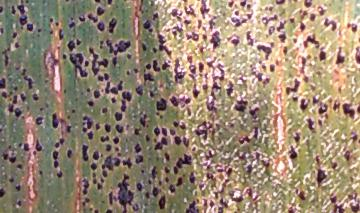tarspot: (206, 55, 224, 113), (115, 172, 139, 213), (105, 36, 133, 57), (68, 52, 89, 79), (88, 46, 108, 74), (156, 33, 173, 59), (194, 121, 213, 142), (213, 177, 230, 199), (172, 56, 186, 82), (186, 73, 200, 99), (168, 93, 192, 108), (255, 42, 274, 60), (284, 78, 302, 96), (302, 31, 320, 49), (248, 63, 263, 84), (299, 54, 309, 85), (229, 14, 247, 30), (209, 29, 222, 51), (321, 16, 338, 32), (152, 135, 169, 151), (176, 153, 193, 168), (199, 1, 211, 22), (334, 44, 345, 66), (315, 167, 327, 187), (1, 45, 11, 69), (169, 7, 184, 23), (341, 102, 355, 119), (99, 153, 113, 170), (233, 97, 248, 112), (294, 186, 308, 202), (184, 199, 200, 213), (183, 3, 199, 17), (171, 23, 184, 40), (226, 32, 240, 47), (245, 29, 255, 50), (287, 142, 298, 161), (107, 16, 118, 35), (206, 13, 217, 32), (155, 96, 168, 112), (82, 113, 94, 130), (184, 30, 201, 42), (261, 14, 279, 25), (80, 143, 90, 162), (224, 79, 234, 98), (121, 156, 135, 169), (305, 116, 315, 134), (248, 106, 260, 121), (299, 96, 310, 112), (22, 74, 33, 90), (261, 74, 272, 90), (347, 200, 360, 213), (51, 110, 59, 131), (275, 31, 287, 45), (276, 18, 288, 32), (234, 149, 248, 161), (352, 45, 360, 65), (331, 202, 345, 213), (332, 97, 341, 114), (151, 58, 161, 73), (134, 83, 144, 98), (237, 135, 252, 145), (345, 21, 357, 33), (158, 194, 166, 212), (34, 137, 43, 153), (139, 112, 147, 130), (204, 149, 216, 161), (112, 111, 125, 122), (120, 91, 133, 102), (346, 192, 360, 202), (82, 177, 89, 197), (111, 155, 121, 169), (317, 48, 326, 63), (316, 5, 327, 17), (142, 71, 154, 82), (244, 9, 255, 21), (17, 4, 27, 17), (66, 39, 76, 52), (317, 103, 328, 114), (87, 12, 98, 23), (160, 61, 171, 72), (260, 157, 271, 168), (349, 129, 357, 144), (243, 186, 253, 198), (96, 21, 106, 33), (114, 123, 124, 135), (197, 60, 205, 75), (231, 195, 244, 204), (329, 157, 337, 171), (185, 105, 193, 119), (85, 130, 95, 141), (188, 63, 198, 74), (342, 149, 351, 161), (313, 155, 322, 167), (19, 92, 28, 104), (268, 62, 277, 74), (92, 88, 101, 100), (310, 94, 319, 106), (35, 114, 43, 127), (260, 61, 268, 74), (328, 194, 338, 204), (18, 16, 28, 26), (219, 197, 228, 208), (96, 6, 105, 17), (139, 41, 148, 52), (225, 166, 234, 177), (237, 74, 248, 83), (188, 170, 195, 184), (150, 165, 157, 179), (10, 4, 17, 18), (57, 27, 64, 41), (92, 149, 99, 163), (120, 98, 127, 112), (116, 78, 123, 92), (23, 141, 31, 153), (181, 136, 189, 148), (173, 135, 181, 147), (104, 79, 110, 95), (299, 21, 307, 33), (111, 55, 118, 68), (8, 155, 17, 165), (51, 150, 60, 160), (1, 76, 7, 91), (25, 23, 35, 32), (135, 154, 144, 164), (133, 143, 142, 153), (100, 134, 110, 143), (253, 125, 259, 140), (183, 17, 192, 27), (197, 181, 206, 191), (152, 126, 160, 137), (178, 120, 186, 131), (112, 135, 120, 146), (225, 1, 236, 9), (108, 190, 113, 207), (7, 103, 14, 115), (104, 122, 111, 134), (55, 170, 64, 179), (151, 11, 160, 20), (86, 98, 95, 107), (189, 145, 198, 154), (302, 1, 312, 9), (202, 197, 207, 213), (57, 136, 65, 146), (14, 108, 22, 118), (31, 92, 39, 102), (290, 95, 300, 103), (163, 165, 171, 175), (163, 151, 171, 161), (88, 162, 98, 170), (104, 143, 112, 153), (267, 25, 275, 35), (282, 45, 288, 58), (196, 18, 202, 31), (160, 126, 167, 137), (110, 85, 117, 96), (301, 8, 308, 19), (309, 12, 315, 24), (168, 184, 176, 193), (1, 186, 7, 198), (13, 183, 22, 191), (66, 148, 72, 160), (78, 15, 87, 23), (109, 96, 117, 105), (95, 74, 104, 82), (233, 7, 241, 16), (205, 172, 214, 180), (264, 5, 273, 13), (293, 132, 300, 142), (176, 176, 183, 186), (52, 160, 59, 170), (65, 124, 72, 134), (75, 37, 82, 47), (143, 19, 150, 29), (96, 182, 103, 192), (102, 71, 109, 81), (274, 1, 288, 6), (316, 118, 323, 128), (67, 21, 77, 28), (152, 187, 158, 198), (12, 93, 18, 104), (94, 122, 100, 133), (99, 38, 105, 49), (216, 167, 227, 173), (10, 31, 18, 39), (147, 26, 155, 34), (144, 62, 152, 70), (101, 169, 109, 177), (70, 106, 78, 114), (201, 83, 209, 91), (228, 121, 236, 129), (15, 198, 22, 207), (133, 128, 140, 137), (148, 90, 155, 99), (101, 105, 108, 114), (254, 150, 261, 159), (209, 180, 216, 189), (12, 83, 19, 92), (356, 102, 360, 117), (172, 119, 178, 129), (83, 58, 89, 68), (291, 35, 297, 45), (337, 84, 343, 94), (286, 206, 294, 213), (150, 45, 157, 53), (61, 53, 68, 61), (168, 127, 175, 135), (113, 146, 121, 153), (204, 163, 212, 170), (209, 199, 214, 210), (103, 207, 112, 213), (136, 182, 142, 191), (3, 153, 9, 162), (54, 141, 60, 150), (314, 70, 323, 76), (145, 133, 150, 143), (245, 163, 250, 173), (216, 206, 223, 213), (13, 41, 20, 48), (98, 151, 105, 158), (125, 51, 132, 58), (310, 84, 317, 91), (9, 176, 15, 184), (1, 91, 9, 97), (172, 166, 178, 174), (16, 140, 22, 148), (306, 52, 312, 60), (239, 1, 247, 7), (333, 67, 339, 75), (85, 196, 91, 204), (145, 190, 150, 199), (62, 87, 67, 96), (16, 163, 23, 169), (85, 87, 92, 93), (99, 176, 105, 183), (125, 69, 131, 76), (289, 16, 295, 23), (53, 21, 60, 27), (69, 16, 75, 23), (158, 114, 165, 120), (14, 65, 21, 71), (49, 28, 54, 36), (139, 168, 145, 174), (21, 67, 27, 73), (106, 1, 112, 7), (133, 66, 137, 75), (37, 27, 43, 33), (147, 178, 152, 185), (92, 177, 97, 184), (80, 201, 87, 206), (158, 179, 162, 187), (289, 1, 297, 5), (93, 208, 99, 213), (48, 17, 53, 23), (38, 169, 44, 174), (91, 171, 96, 177), (67, 114, 72, 120), (165, 176, 169, 183), (39, 105, 43, 112), (154, 112, 161, 116), (357, 137, 360, 146), (1, 26, 4, 35), (1, 5, 4, 14), (93, 1, 102, 4), (180, 1, 189, 4), (7, 145, 12, 150), (56, 44, 61, 49), (357, 36, 360, 44), (19, 1, 24, 5), (232, 210, 237, 213), (64, 1, 71, 3), (24, 1, 28, 4)
